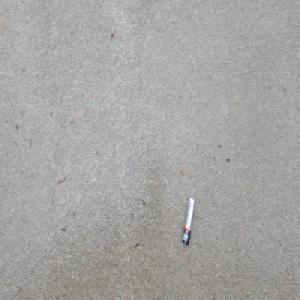Battery: (181, 195, 195, 247)
